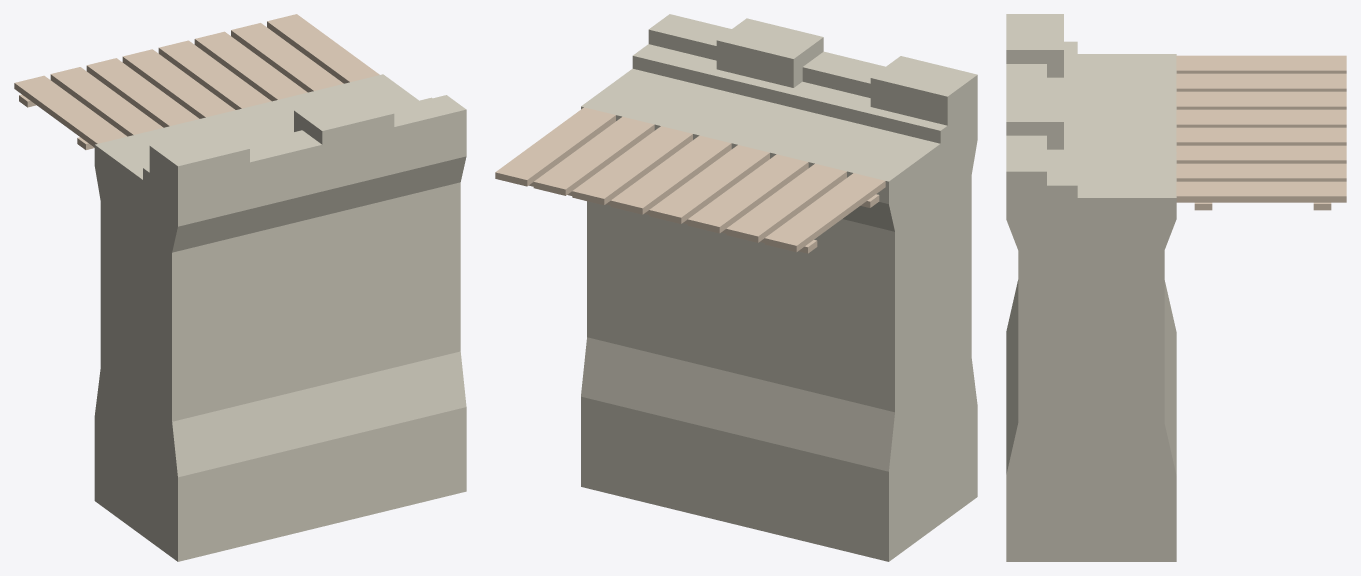
File: wallNarrowWood.fbx
3 renders of one model, left to right at view 1: azimuth 30°, elevation 25°; view 2: azimuth 150°, elevation 25°; view 3: azimuth 270°, elevation 25°, orthographic. The views are drawn at different scales.
Parts seen in each view (by area): view 1: wallNarrowWood, bridge 5; view 2: wallNarrowWood, bridge 5; view 3: wallNarrowWood, bridge 5.
Boxes of the visible parts, x1,y1,x2,y2 form: wallNarrowWood: (94, 74, 466, 561); bridge 5: (14, 14, 379, 149); wallNarrowWood: (581, 14, 977, 561); bridge 5: (495, 107, 885, 253); wallNarrowWood: (1006, 14, 1176, 561); bridge 5: (1176, 55, 1346, 210).
Bounding box in the file's own units: 300 × 393 × 300.
